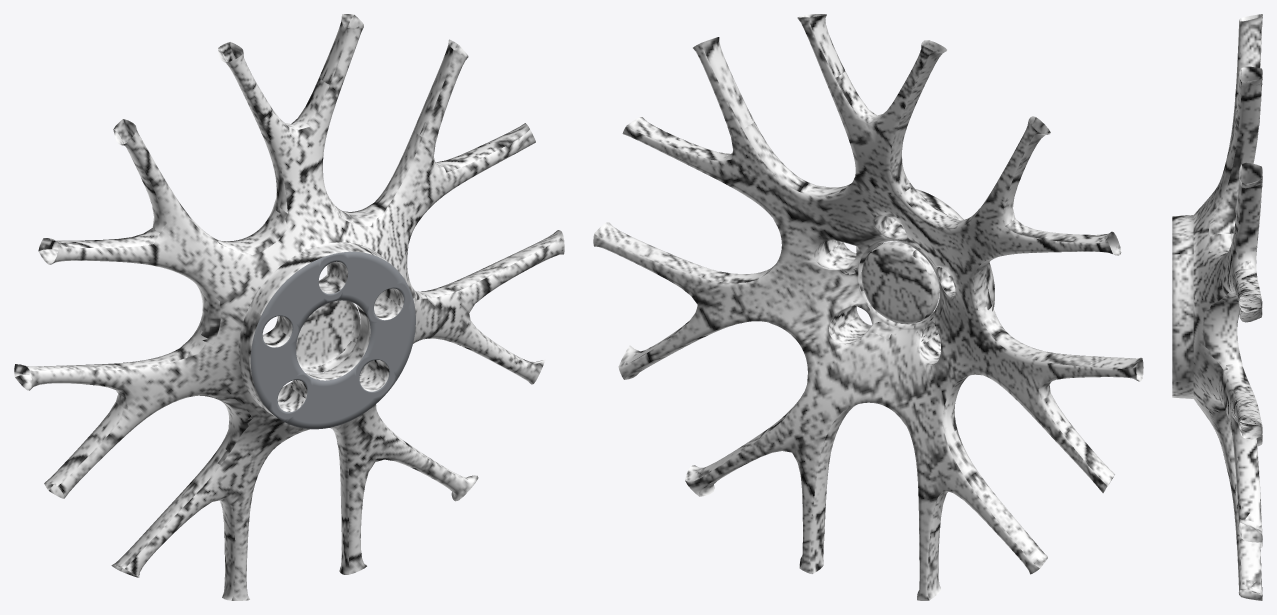
File: rim2_front.glb
3 views of the same model, side by side, from view 1: azimuth 30°, elevation 25°; view 2: azimuth 150°, elevation 25°; view 3: azimuth 270°, elevation 25° (orthographic). The views are drawn at different scales.
Visible parts, largest first — view 1: Tire; view 2: Tire; view 3: Tire.
Part boxes in pixels (bbox=[...]): Tire: bbox=[14, 14, 564, 600]; Tire: bbox=[593, 14, 1143, 600]; Tire: bbox=[1172, 14, 1262, 600].
Bounding box in the file's own units: 0.9767 × 0.9563 × 0.1482.
3 materials, 2 textured.
